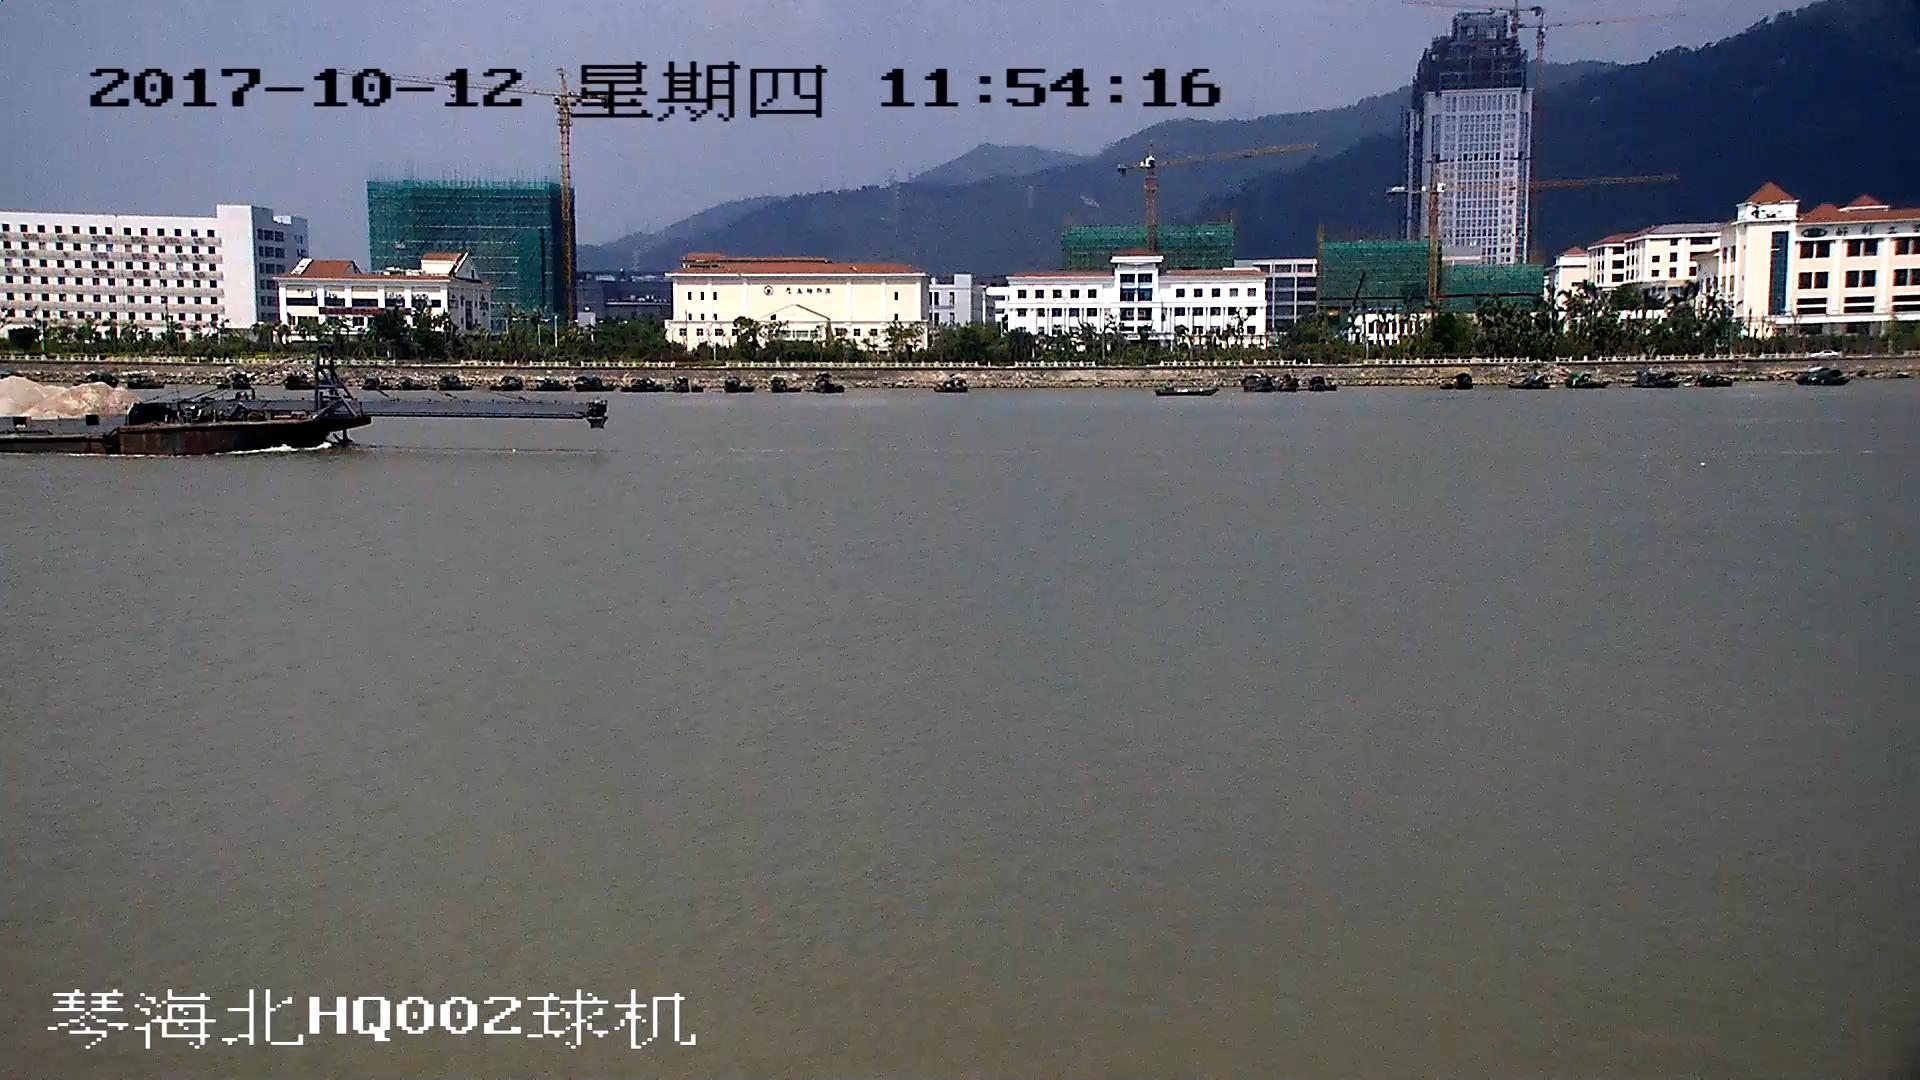ore carrier: (1, 324, 610, 460)
